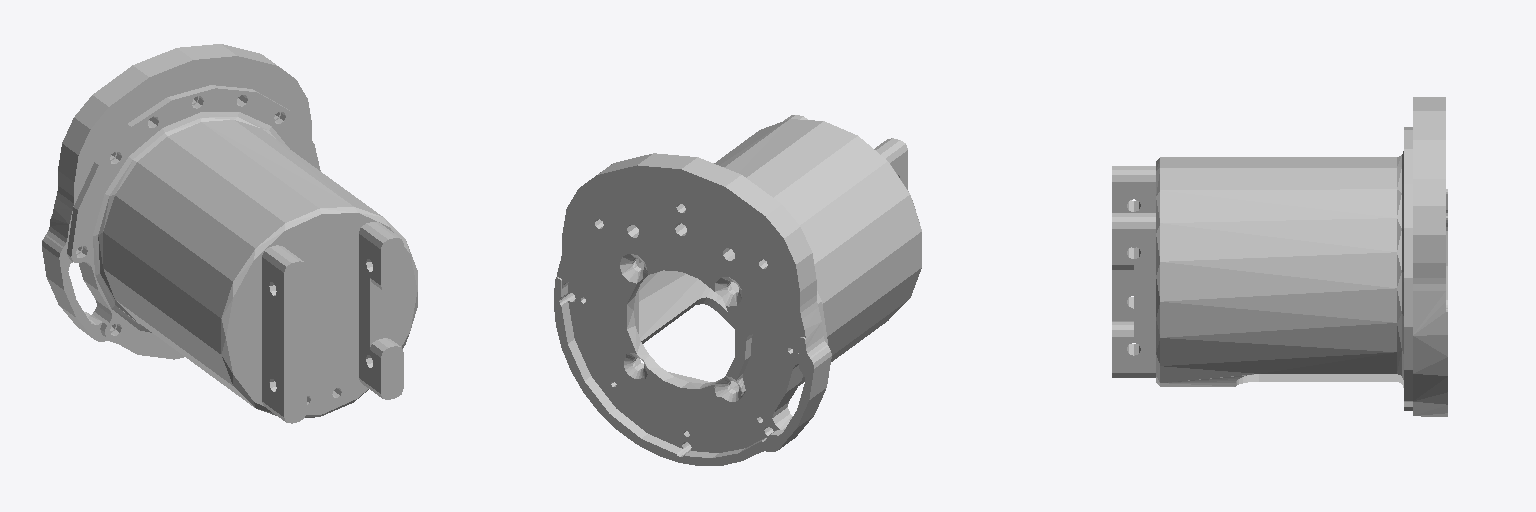
File: neck_yaw.obj
The picture shows the model from 3 angles: view 1: azimuth 30°, elevation 25°; view 2: azimuth 150°, elevation 25°; view 3: azimuth 270°, elevation 25°; orthographic projection.
Visible parts, largest first — view 1: NECK_YAW; view 2: NECK_YAW; view 3: NECK_YAW.
Part boxes in pixels (left/top/right/bottom): NECK_YAW: left=42, top=44, right=417, bottom=423; NECK_YAW: left=554, top=115, right=921, bottom=465; NECK_YAW: left=1112, top=97, right=1447, bottom=416.
Bounding box in the file's own units: 0.068 × 0.073 × 0.076.